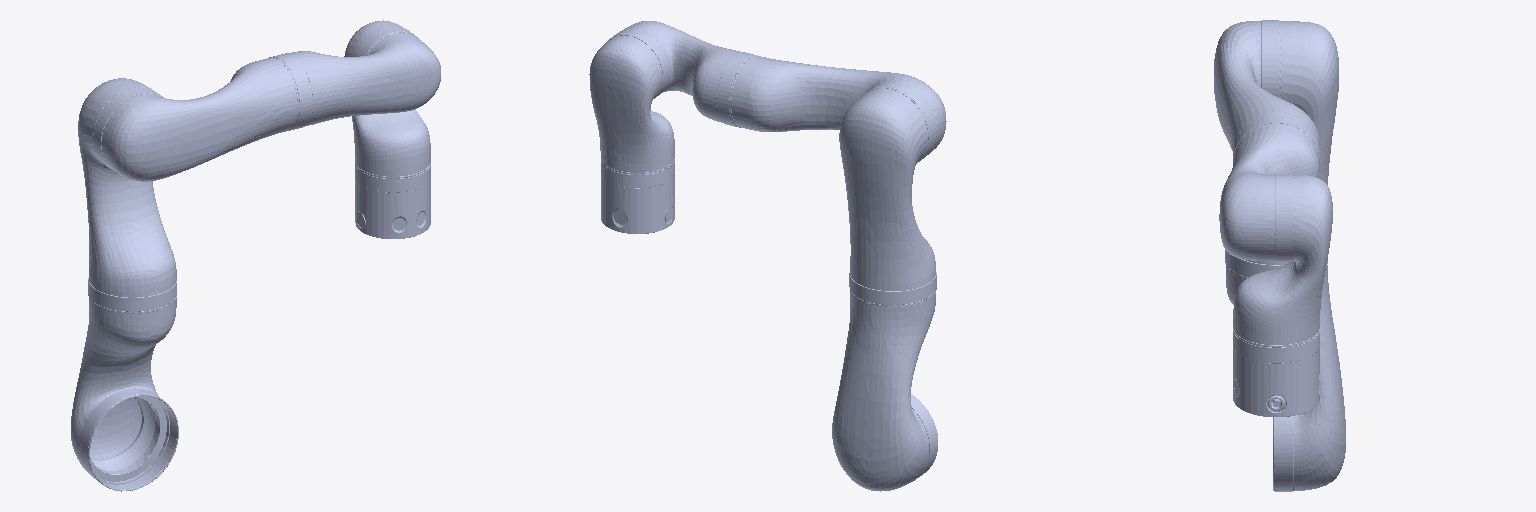
robot.urdf — tcb710:
<?xml version="1.0" encoding="utf-8"?>
<!-- This URDF was automatically created by SolidWorks to URDF Exporter! Originally created by Stephen Brawner (brawner@gmail.com) 
     Commit Version: 1.6.0-4-g7f85cfe  Build Version: 1.6.7995.38578
     For more information, please see http://wiki.ros.org/sw_urdf_exporter -->
<robot
  name="tcb710">
  <link
    name="link0">
    <inertial>
      <origin
        xyz="-0.00203916786698491 0.000208461233542917 0.043797046431842"
        rpy="0 0 0" />
      <mass
        value="0.230943297728628" />
      <inertia
        ixx="0.000578857931988568"
        ixy="2.4964429515846E-06"
        ixz="-3.6276199422181E-06"
        iyy="0.000597326060992727"
        iyz="8.8760397451622E-07"
        izz="0.000630268815467387" />
    </inertial>
    <visual>
      <origin
        xyz="0 0 0"
        rpy="0 0 0" />
      <geometry>
        <mesh
          filename="package://tl_description/meshes/tl_tcb710/link0.STL" />
      </geometry>
      <material
        name="">
        <color
          rgba="0.792156862745098 0.819607843137255 0.933333333333333 1" />
      </material>
    </visual>
    <collision>
      <origin
        xyz="0 0 0"
        rpy="0 0 0" />
      <geometry>
        <mesh
          filename="package://tl_description/meshes/tl_tcb710/link0.STL" />
      </geometry>
    </collision>
  </link>
  <link
    name="link1">
    <inertial>
      <origin
        xyz="-2.82592835968143E-06 -0.0149440554612562 0.0760738628611228"
        rpy="0 0 0" />
      <mass
        value="0.188795049535535" />
      <inertia
        ixx="0.000644330974536614"
        ixy="5.55804168466963E-08"
        ixz="-5.40921744937873E-08"
        iyy="0.000669839544820847"
        iyz="0.000101917330586459"
        izz="0.000292784373513458" />
    </inertial>
    <visual>
      <origin
        xyz="0 0 0"
        rpy="0 0 0" />
      <geometry>
        <mesh
          filename="package://tl_description/meshes/tl_tcb710/link1.STL" />
      </geometry>
      <material
        name="">
        <color
          rgba="0.792156862745098 0.819607843137255 0.933333333333333 1" />
      </material>
    </visual>
    <collision>
      <origin
        xyz="0 0 0"
        rpy="0 0 0" />
      <geometry>
        <mesh
          filename="package://tl_description/meshes/tl_tcb710/link1.STL" />
      </geometry>
    </collision>
  </link>
  <joint
    name="joint1"
    type="revolute">
    <origin
      xyz="0 0 0.12215"
      rpy="0 0 0" />
    <parent
      link="link0" />
    <child
      link="link1" />
    <axis
      xyz="0 0 1" />
    <limit
      lower="-3.1416"
      upper="3.1416"
      effort="0"
      velocity="0" />
  </joint>
  <link
    name="link2">
    <inertial>
      <origin
        xyz="-1.20347801173391E-05 -0.0623096534981243 0.0137313757510769"
        rpy="0 0 0" />
      <mass
        value="0.167852810050995" />
      <inertia
        ixx="0.000623582919856085"
        ixy="-1.02023977094893E-07"
        ixz="-2.62605885954612E-08"
        iyy="0.000204004006193839"
        iyz="-9.63924565522136E-05"
        izz="0.00065392663703825" />
    </inertial>
    <visual>
      <origin
        xyz="0 0 0"
        rpy="0 0 0" />
      <geometry>
        <mesh
          filename="package://tl_description/meshes/tl_tcb710/link2.STL" />
      </geometry>
      <material
        name="">
        <color
          rgba="0.792156862745098 0.819607843137255 0.933333333333333 1" />
      </material>
    </visual>
    <collision>
      <origin
        xyz="0 0 0"
        rpy="0 0 0" />
      <geometry>
        <mesh
          filename="package://tl_description/meshes/tl_tcb710/link2.STL" />
      </geometry>
    </collision>
  </link>
  <joint
    name="joint2"
    type="revolute">
    <origin
      xyz="0 0.00665 0.14085"
      rpy="-1.5708 0 0" />
    <parent
      link="link1" />
    <child
      link="link2" />
    <axis
      xyz="0 0 1" />
    <limit
      lower="-2.3737"
      upper="2.3737"
      effort="0"
      velocity="0" />
  </joint>
  <link
    name="link3">
    <inertial>
      <origin
        xyz="5.1809884872867E-06 0.0163972364739495 0.0859506121923586"
        rpy="0 0 0" />
      <mass
        value="0.168577086504063" />
      <inertia
        ixx="0.000629526301979262"
        ixy="-2.03042856624266E-08"
        ixz="-6.35102017824465E-08"
        iyy="0.000646660834926441"
        iyz="-9.33670780140332E-05"
        izz="0.000173964973671172" />
    </inertial>
    <visual>
      <origin
        xyz="0 0 0"
        rpy="0 0 0" />
      <geometry>
        <mesh
          filename="package://tl_description/meshes/tl_tcb710/link3.STL" />
      </geometry>
      <material
        name="">
        <color
          rgba="0.792156862745098 0.819607843137255 0.933333333333333 1" />
      </material>
    </visual>
    <collision>
      <origin
        xyz="0 0 0"
        rpy="0 0 0" />
      <geometry>
        <mesh
          filename="package://tl_description/meshes/tl_tcb710/link3.STL" />
      </geometry>
    </collision>
  </link>
  <joint
    name="joint3"
    type="revolute">
    <origin
      xyz="0 -0.16015 -0.00665"
      rpy="1.5708 0 0" />
    <parent
      link="link2" />
    <child
      link="link3" />
    <axis
      xyz="0 0 1" />
    <limit
      lower="-3.1416"
      upper="3.1416"
      effort="0"
      velocity="0" />
  </joint>
  <link
    name="link4">
    <inertial>
      <origin
        xyz="-0.0654996500300898 -2.74632082808424E-06 -0.0144299138786475"
        rpy="0 0 0" />
      <mass
        value="0.145368322724393" />
      <inertia
        ixx="0.000131598131454647"
        ixy="2.65698441996892E-08"
        ixz="7.17192831944771E-05"
        iyy="0.000526467525665681"
        iyz="8.86130700205519E-09"
        izz="0.000544513529335603" />
    </inertial>
    <visual>
      <origin
        xyz="0 0 0"
        rpy="0 0 0" />
      <geometry>
        <mesh
          filename="package://tl_description/meshes/tl_tcb710/link4.STL" />
      </geometry>
      <material
        name="">
        <color
          rgba="0.792156862745098 0.819607843137255 0.933333333333333 1" />
      </material>
    </visual>
    <collision>
      <origin
        xyz="0 0 0"
        rpy="0 0 0" />
      <geometry>
        <mesh
          filename="package://tl_description/meshes/tl_tcb710/link4.STL" />
      </geometry>
    </collision>
  </link>
  <joint
    name="joint4"
    type="revolute">
    <origin
      xyz="0 -0.00515 0.16035"
      rpy="1.5708 0 -3.1416" />
    <parent
      link="link3" />
    <child
      link="link4" />
    <axis
      xyz="0 0 1" />
    <limit
      lower="-4.1423"
      upper="0.9935"
      effort="0"
      velocity="0" />
  </joint>
  <link
    name="link5">
    <inertial>
      <origin
        xyz="5.11053865148714E-06 -0.0131445599014392 0.0626746043751888"
        rpy="0 0 0" />
      <mass
        value="0.0899817886777035" />
      <inertia
        ixx="0.000204808490364998"
        ixy="1.16222571745245E-08"
        ixz="-4.07643004966915E-08"
        iyy="0.000207969738316117"
        iyz="3.60478114245849E-05"
        izz="7.75189799124617E-05" />
    </inertial>
    <visual>
      <origin
        xyz="0 0 0"
        rpy="0 0 0" />
      <geometry>
        <mesh
          filename="package://tl_description/meshes/tl_tcb710/link5.STL" />
      </geometry>
      <material
        name="">
        <color
          rgba="0.792156862745098 0.819607843137255 0.933333333333333 1" />
      </material>
    </visual>
    <collision>
      <origin
        xyz="0 0 0"
        rpy="0 0 0" />
      <geometry>
        <mesh
          filename="package://tl_description/meshes/tl_tcb710/link5.STL" />
      </geometry>
    </collision>
  </link>
  <joint
    name="joint5"
    type="revolute">
    <origin
      xyz="-0.16615 0 0.00515"
      rpy="1.5708 0 -1.5708" />
    <parent
      link="link4" />
    <child
      link="link5" />
    <axis
      xyz="0 0 1" />
    <limit
      lower="-3.1416"
      upper="3.1416"
      effort="0"
      velocity="0" />
  </joint>
  <link
    name="link6">
    <inertial>
      <origin
        xyz="0.0398707312600396 -1.29749997346829E-05 0.00873816110128956"
        rpy="0 0 0" />
      <mass
        value="0.0915266768417585" />
      <inertia
        ixx="8.07130413912208E-05"
        ixy="-3.62631341554718E-08"
        ixz="3.1588703057089E-05"
        iyy="0.00016700596144646"
        iyz="1.27355290233281E-08"
        izz="0.000170834721676895" />
    </inertial>
    <visual>
      <origin
        xyz="0 0 0"
        rpy="0 0 0" />
      <geometry>
        <mesh
          filename="package://tl_description/meshes/tl_tcb710/link6.STL" />
      </geometry>
      <material
        name="">
        <color
          rgba="0.792156862745098 0.819607843137255 0.933333333333333 1" />
      </material>
    </visual>
    <collision>
      <origin
        xyz="0 0 0"
        rpy="0 0 0" />
      <geometry>
        <mesh
          filename="package://tl_description/meshes/tl_tcb710/link6.STL" />
      </geometry>
    </collision>
  </link>
  <joint
    name="joint6"
    type="revolute">
    <origin
      xyz="0 0.00615 0.11335"
      rpy="-1.5708 0 0" />
    <parent
      link="link5" />
    <child
      link="link6" />
    <axis
      xyz="0 0 1" />
    <limit
      lower="-3.8386"
      upper="0.697"
      effort="0"
      velocity="0" />
  </joint>
  <link
    name="link7">
    <inertial>
      <origin
        xyz="8.96781418941398E-05 -0.000399244210081695 0.0324677284588541"
        rpy="0 0 0" />
      <mass
        value="0.0756964619101267" />
      <inertia
        ixx="5.7603649058143E-05"
        ixy="4.71066527231079E-09"
        ixz="-1.43757836186172E-08"
        iyy="5.73362606941989E-05"
        iyz="3.25485729124555E-07"
        izz="7.09151368933629E-05" />
    </inertial>
    <visual>
      <origin
        xyz="0 0 0"
        rpy="0 0 0" />
      <geometry>
        <mesh
          filename="package://tl_description/meshes/tl_tcb710/link7.STL" />
      </geometry>
      <material
        name="">
        <color
          rgba="0.792156862745098 0.819607843137255 0.933333333333333 1" />
      </material>
    </visual>
    <collision>
      <origin
        xyz="0 0 0"
        rpy="0 0 0" />
      <geometry>
        <mesh
          filename="package://tl_description/meshes/tl_tcb710/link7.STL" />
      </geometry>
    </collision>
  </link>
  <joint
    name="joint7"
    type="revolute">
    <origin
      xyz="0.10615 0 -0.00615"
      rpy="0 1.5708 0" />
    <parent
      link="link6" />
    <child
      link="link7" />
    <axis
      xyz="0 0 1" />
    <limit
      lower="-3.1416"
      upper="3.1416"
      effort="0"
      velocity="0" />
  </joint>
</robot>

--- Facts derived from the render (not from the file) ---
The picture shows the robot from 3 angles, left to right: view 1: azimuth 30°, elevation 25°; view 2: azimuth 150°, elevation 25°; view 3: azimuth 270°, elevation 25°; orthographic projection.
Robot: tcb710 — 8 links, 7 joints (7 revolute); root link link0; default pose: every joint at zero.
Visible links, largest first — view 1: link2, link4, link3, link5, link6, link7; view 2: link3, link2, link4, link6, link5, link7; view 3: link6, link5, link2, link4, link3, link7.
Link boxes in pixels (x1,y1,x2,y2): link2: [71, 298, 178, 491]; link4: [92, 57, 297, 181]; link3: [78, 78, 176, 313]; link5: [269, 32, 440, 130]; link6: [344, 20, 430, 176]; link7: [355, 162, 430, 238]; link3: [839, 88, 936, 306]; link2: [832, 293, 937, 491]; link4: [731, 56, 946, 163]; link6: [589, 29, 674, 172]; link5: [622, 21, 757, 127]; link7: [601, 159, 674, 233]; link6: [1233, 174, 1332, 344]; link5: [1219, 114, 1319, 260]; link2: [1226, 265, 1345, 491]; link4: [1214, 20, 1319, 150]; link3: [1225, 21, 1338, 278]; link7: [1233, 329, 1319, 416].
Size in the robot's own frame: 0.3633 by 0.1071 by 0.4103 metres.
6 mesh visuals loaded from 8 distinct referenced files (6 binary STL); not drawn: 2 (reference not matched to a file when rendering).
